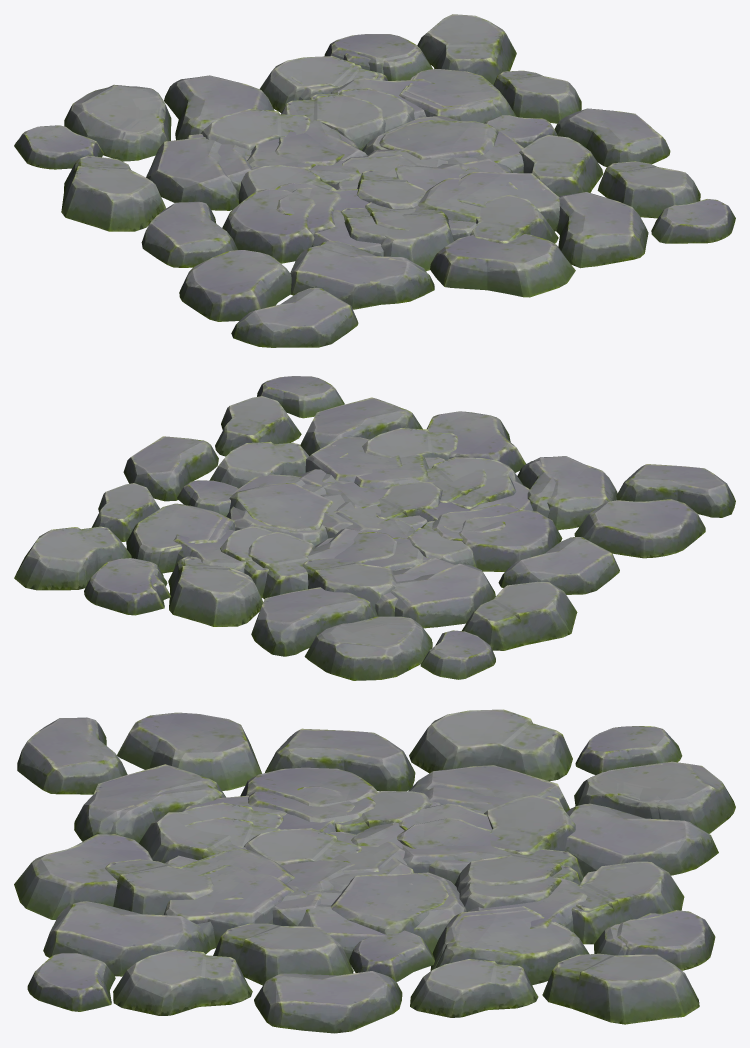
Rendered from megakit-pathstones.glb.
The picture shows the model from 3 angles, top to bottom: view 1: azimuth 30°, elevation 25°; view 2: azimuth 150°, elevation 25°; view 3: azimuth 270°, elevation 25°; orthographic projection. The views are drawn at different scales.
Parts seen in each view (by area): view 1: RockPath_Round_Wide, RockPath_Round_Thin, RockPath_Round_Small_1, RockPath_Round_Small_2, RockPath_Round_Small_3; view 2: RockPath_Round_Wide, RockPath_Round_Thin, RockPath_Round_Small_1, RockPath_Round_Small_2, RockPath_Round_Small_3; view 3: RockPath_Round_Wide, RockPath_Round_Thin, RockPath_Round_Small_1, RockPath_Round_Small_3, RockPath_Round_Small_2.
Part boxes in pixels (x1=…): RockPath_Round_Wide: x1=14, y1=14, x2=735, y2=347; RockPath_Round_Thin: x1=91, y1=50, x2=645, y2=309; RockPath_Round_Small_1: x1=201, y1=109, x2=558, y2=271; RockPath_Round_Small_2: x1=238, y1=78, x2=545, y2=256; RockPath_Round_Small_3: x1=186, y1=88, x2=559, y2=235; RockPath_Round_Wide: x1=14, y1=376, x2=735, y2=680; RockPath_Round_Thin: x1=115, y1=398, x2=617, y2=656; RockPath_Round_Small_1: x1=226, y1=428, x2=522, y2=609; RockPath_Round_Small_2: x1=173, y1=445, x2=533, y2=572; RockPath_Round_Small_3: x1=220, y1=437, x2=519, y2=616; RockPath_Round_Wide: x1=14, y1=709, x2=735, y2=1033; RockPath_Round_Thin: x1=19, y1=764, x2=718, y2=985; RockPath_Round_Small_1: x1=105, y1=786, x2=575, y2=953; RockPath_Round_Small_3: x1=164, y1=787, x2=581, y2=961; RockPath_Round_Small_2: x1=164, y1=791, x2=587, y2=949.
Size of the model in its own units: 2.11 by 0.1129 by 2.13.
1 material, 1 textured.
